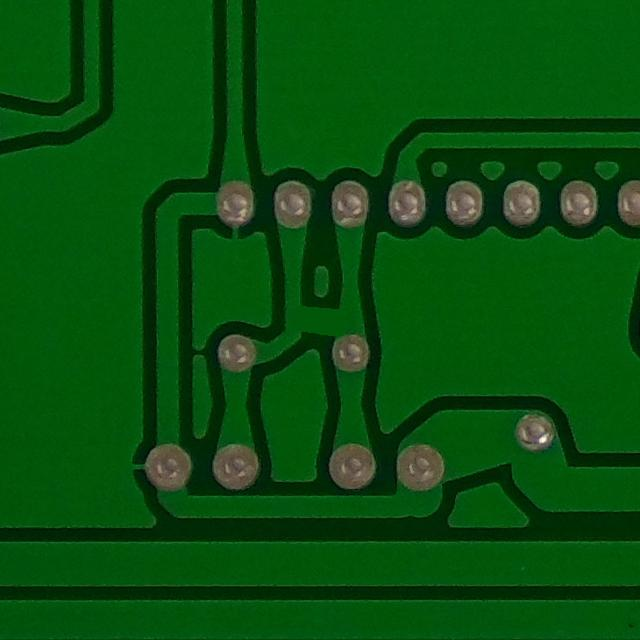short: (281, 284, 359, 357)
